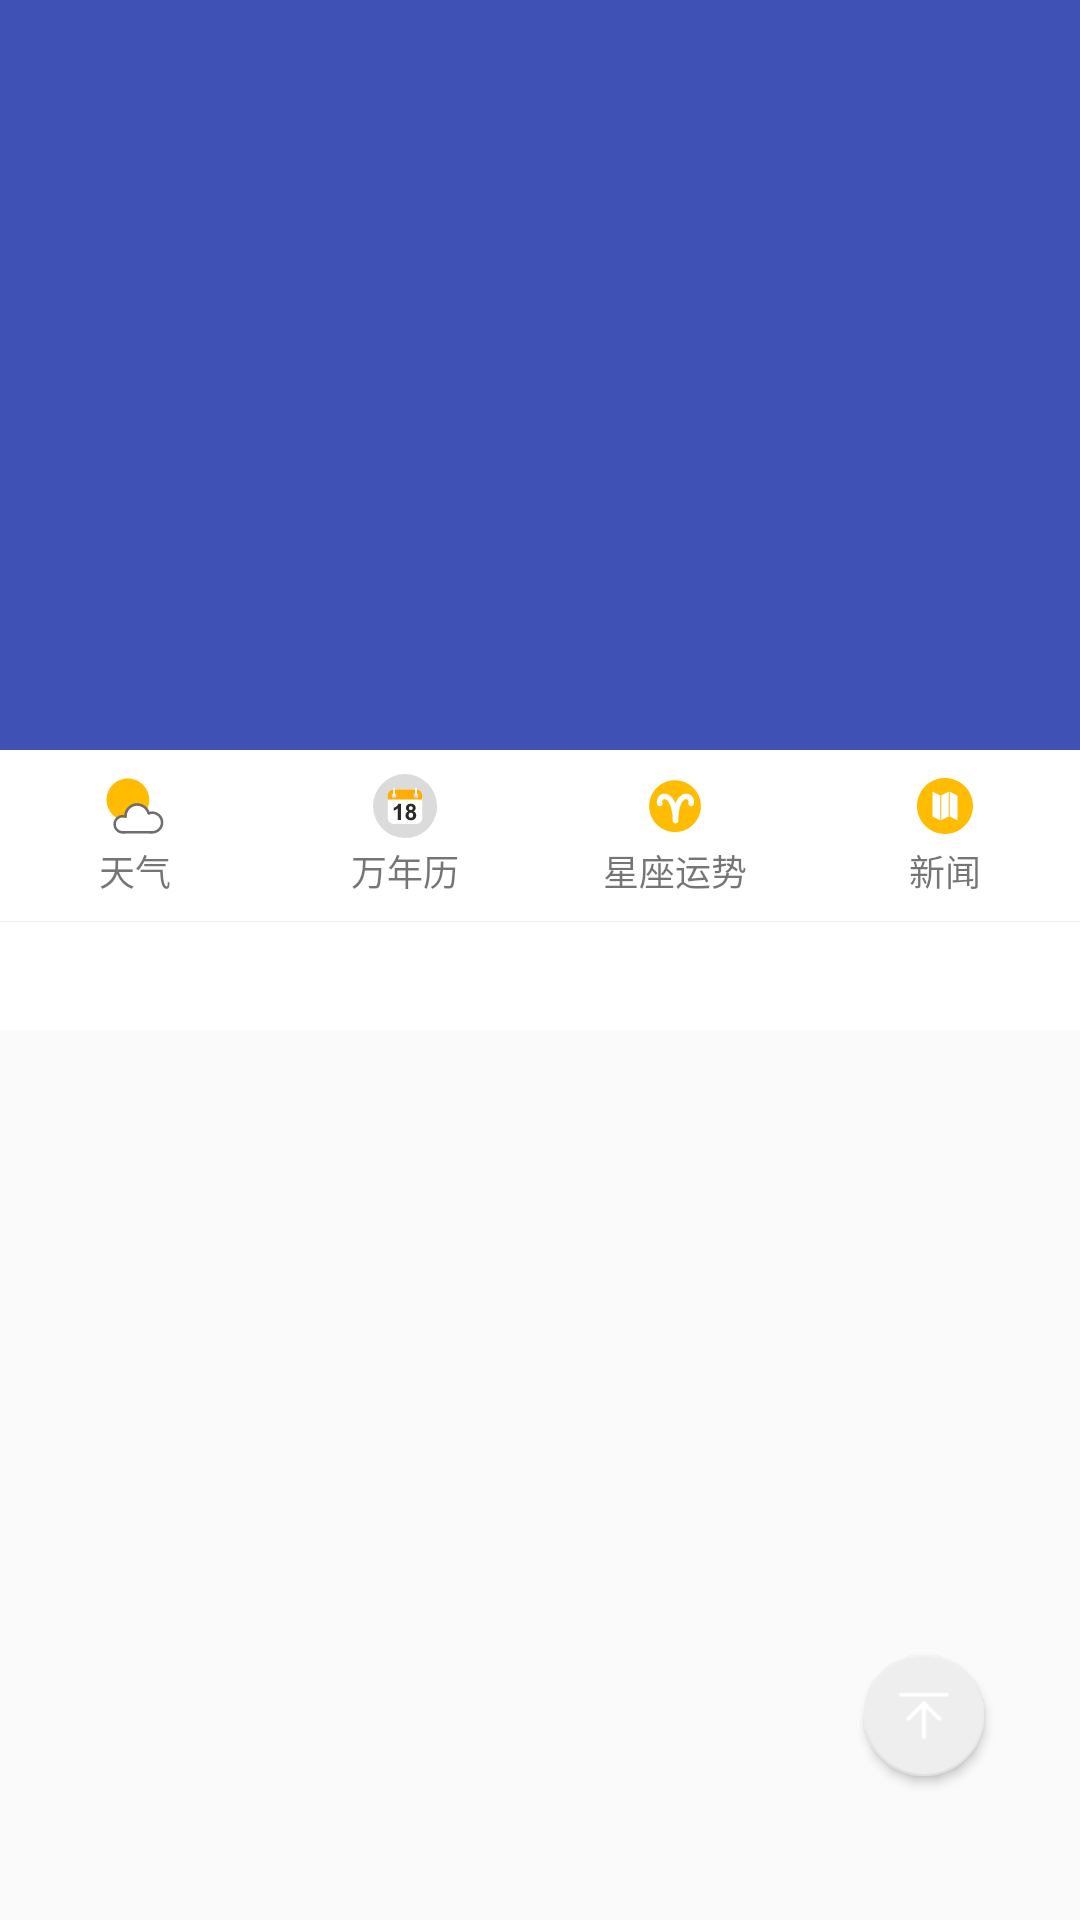

Icons on this 1080 × 1920 Android screen, each with the point to tap as (x,y):
top: (924,1716)
